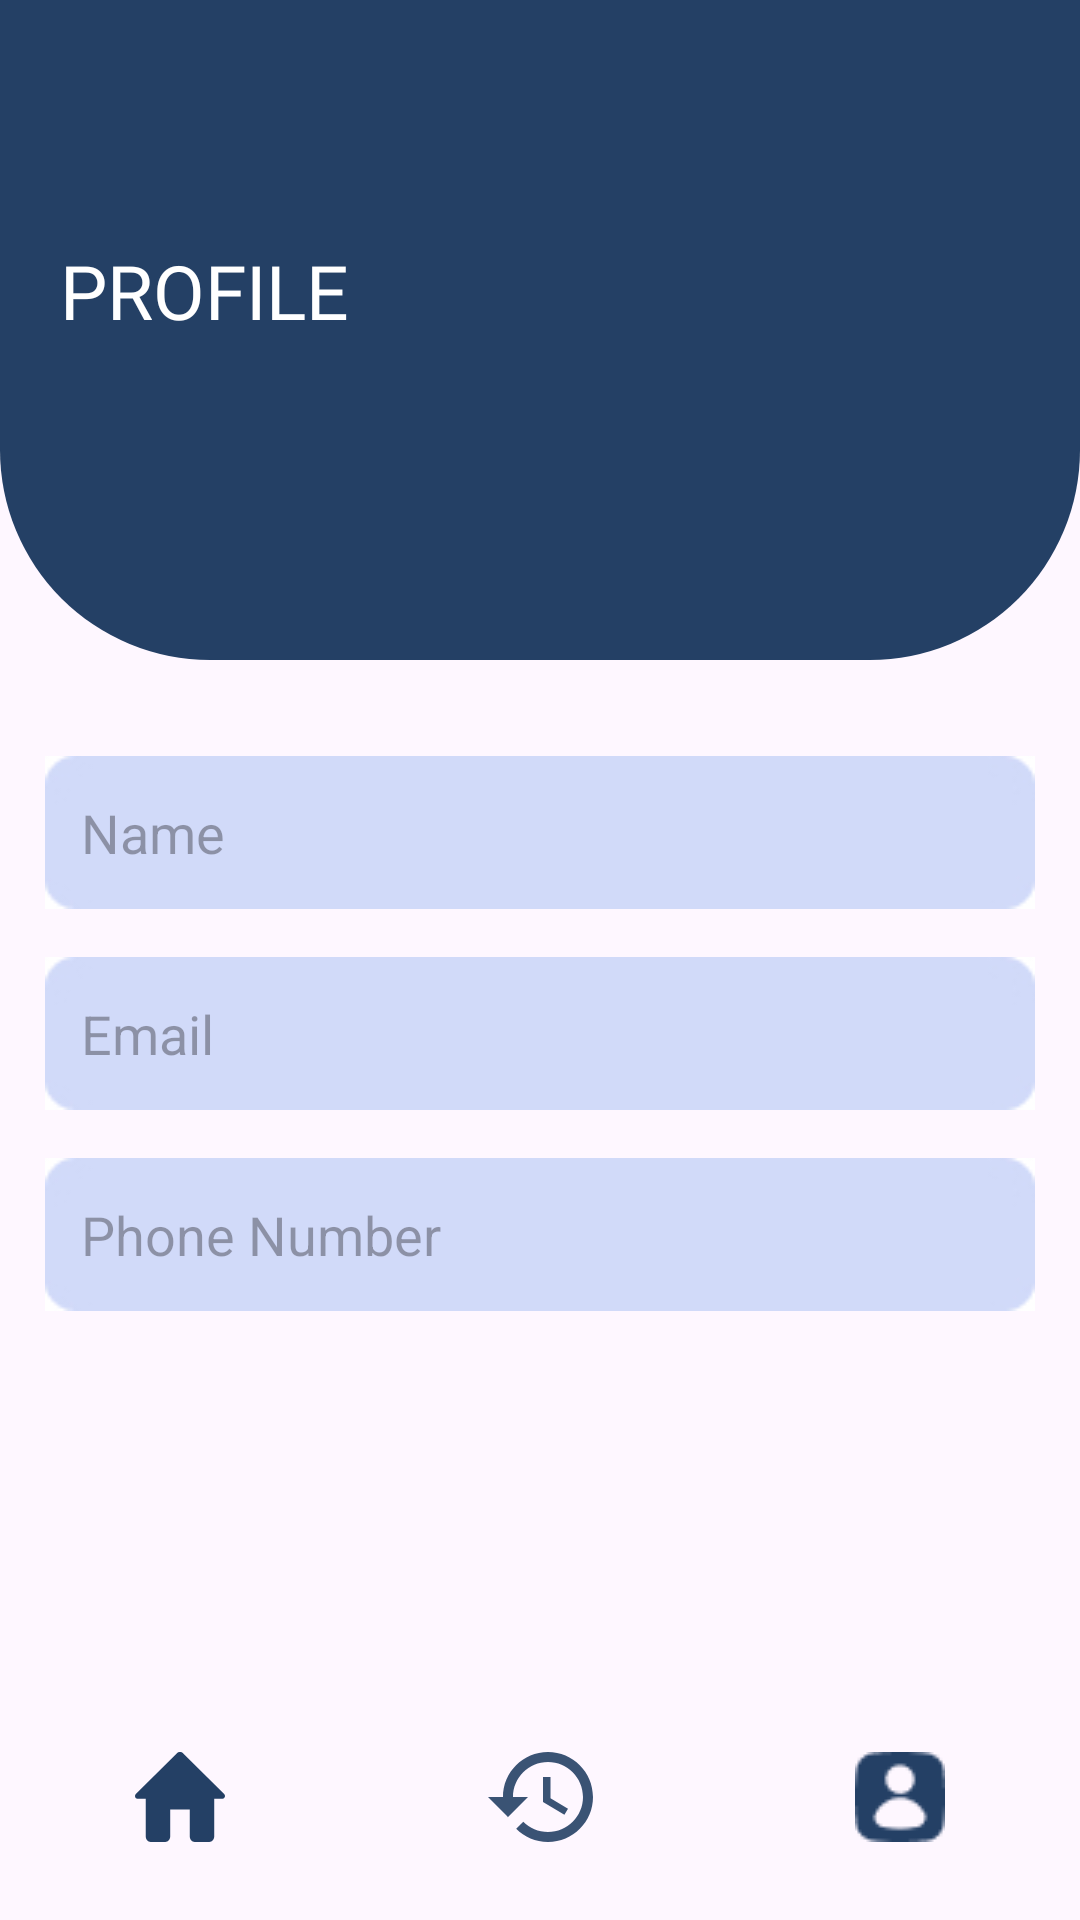

Point at icon controls on the screen. Image size 1080w x 1920h, points as (x,y).
History: (540,1797)
Home: (180,1797)
Profileicon: (900,1797)
